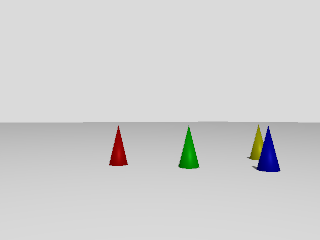blue: (256, 125, 280, 173)
green: (174, 125, 201, 169)
red: (107, 124, 128, 166)
yellow: (248, 123, 262, 161)
